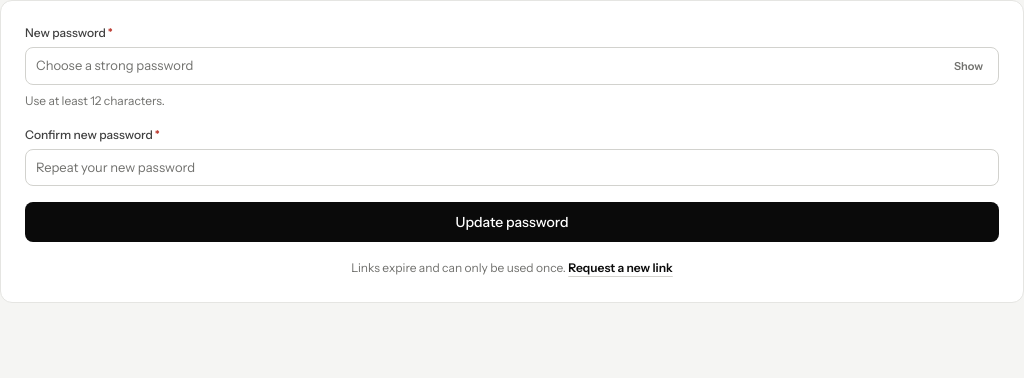
Test case: ResetPasswordForm › explains when the reset link is no longer valid
Type "a-brand-new-password" into the password field labelled "New password*" at (512, 66), box [25,47,999,84]
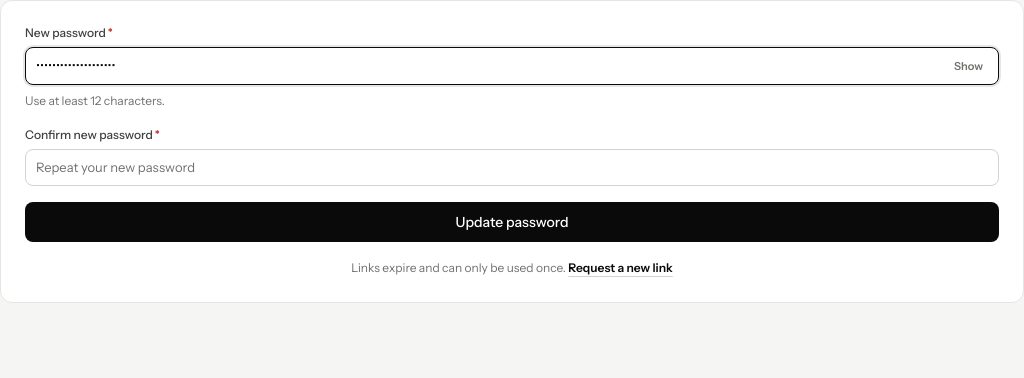
Type "a-brand-new-password" into the password field labelled "Confirm new password*" at (512, 167), box [25,148,999,186]
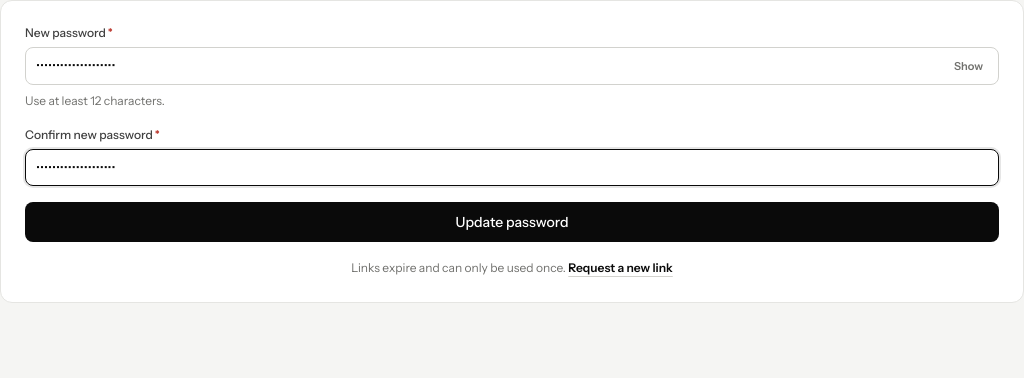
Click the button "Update password" at (512, 222), box [25,202,999,242]
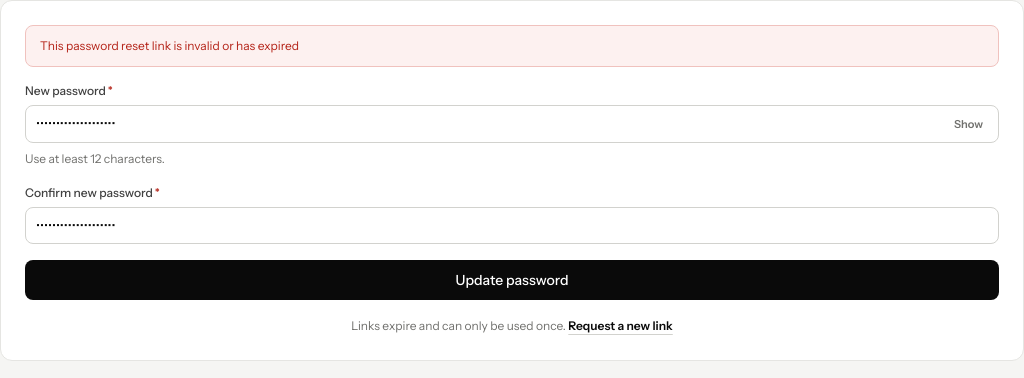
Expected: the text "This password reset link is invalid or has expired" is shown, [40,38,299,53]
